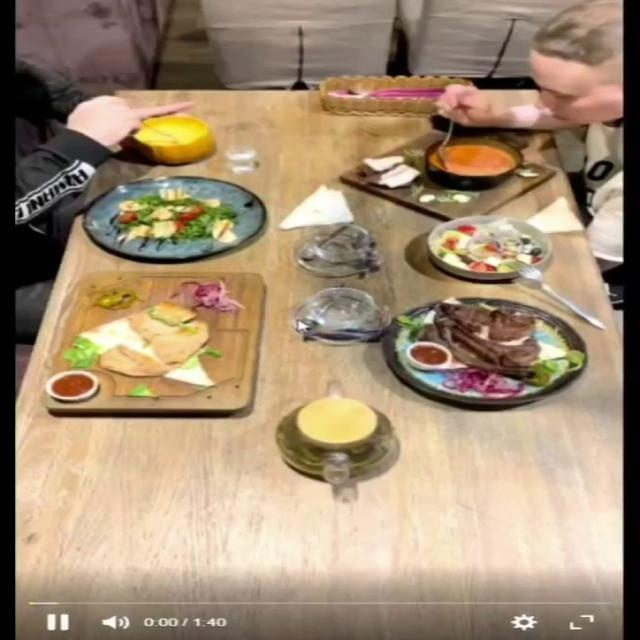meat: (45, 275, 260, 420), (379, 297, 590, 407)
salad: (79, 176, 265, 260), (426, 214, 554, 280)
soup: (334, 130, 558, 222), (128, 114, 214, 162)
tea: (266, 366, 404, 505)
